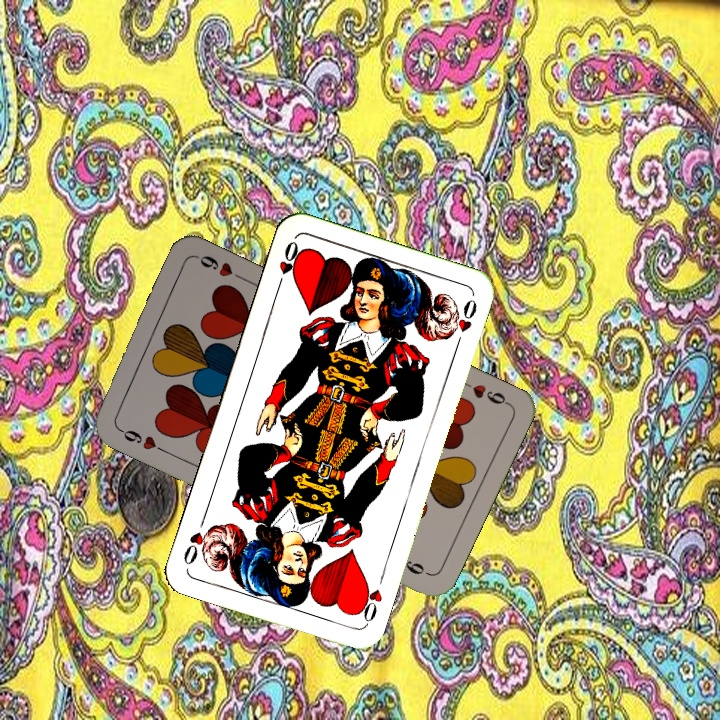H9: (113, 422, 168, 456), (456, 376, 512, 408)
HO: (272, 236, 305, 293), (353, 579, 385, 627)
